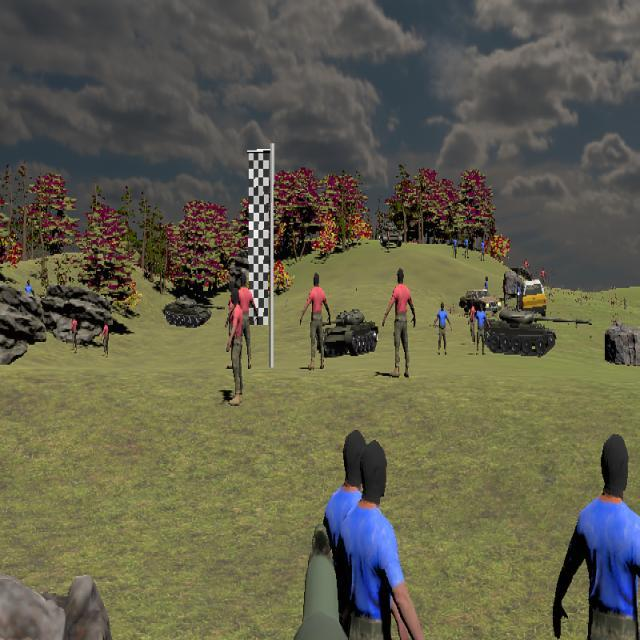Human: (322, 433, 427, 640), (549, 429, 640, 640), (381, 267, 416, 379), (300, 272, 331, 370), (226, 289, 248, 407), (234, 270, 257, 372), (433, 301, 452, 356), (473, 300, 490, 358)
Tank: (479, 307, 593, 358), (319, 308, 379, 357), (162, 295, 223, 328), (379, 219, 402, 249)
car: (459, 288, 502, 315), (519, 279, 547, 318)
